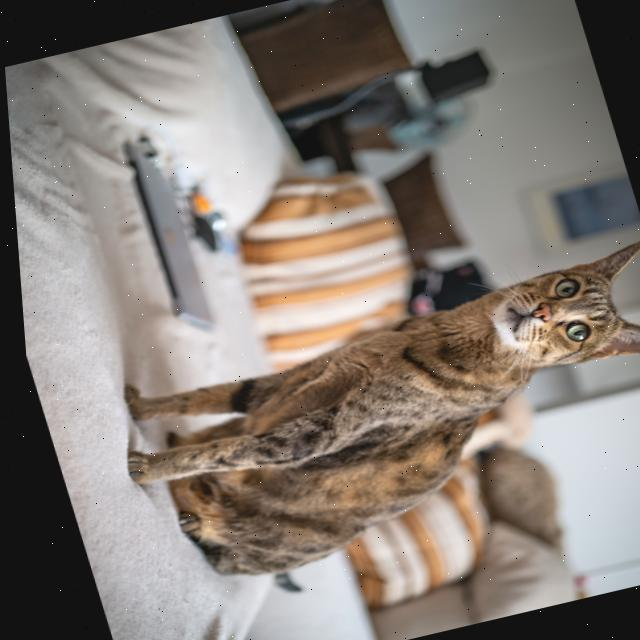Savannah: (80, 236, 640, 623)
